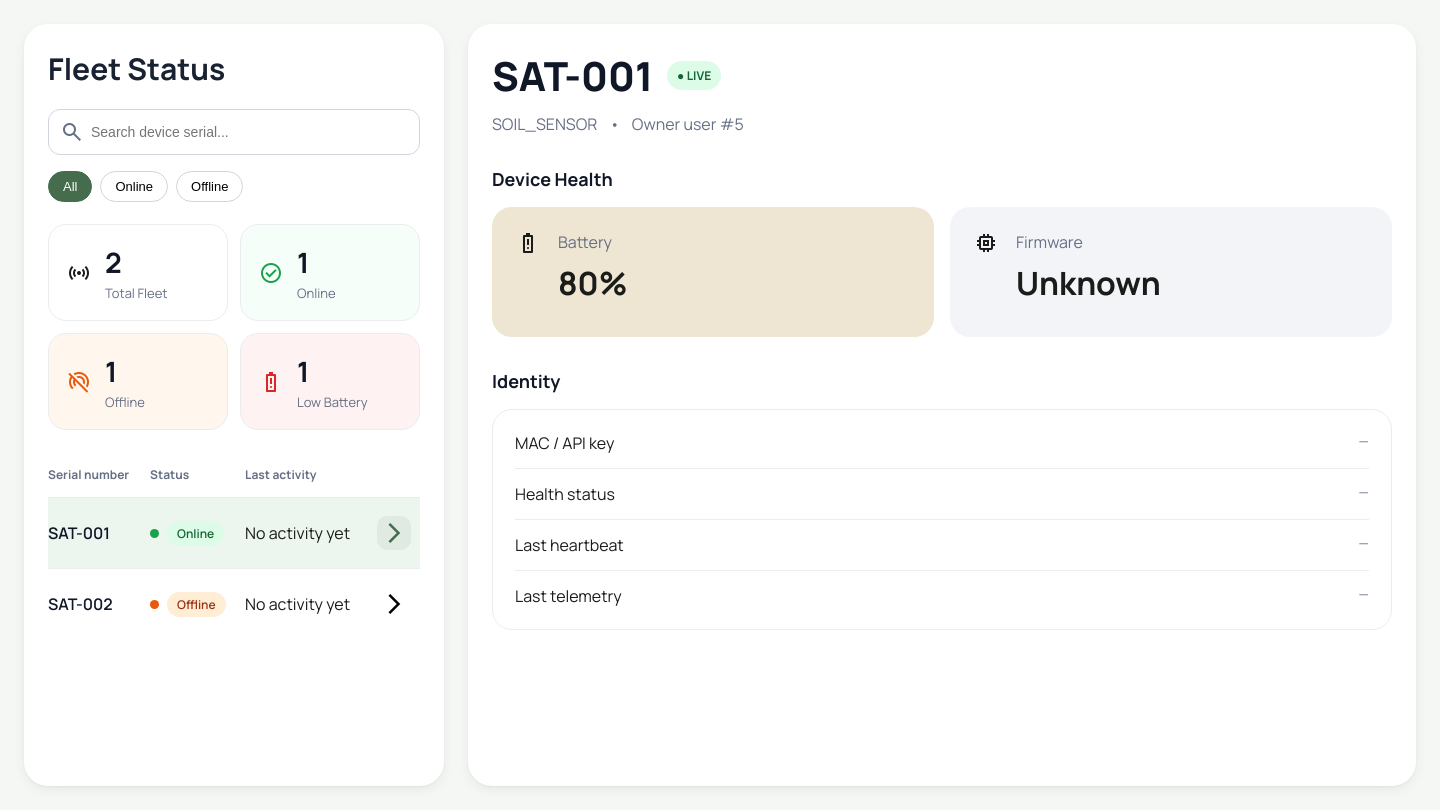
DeviceFleetView › filtering by Online status hides offline devices
Click the button with class "filter-chip" showing "Online" at x=134, y=186, box [100,171,168,202]
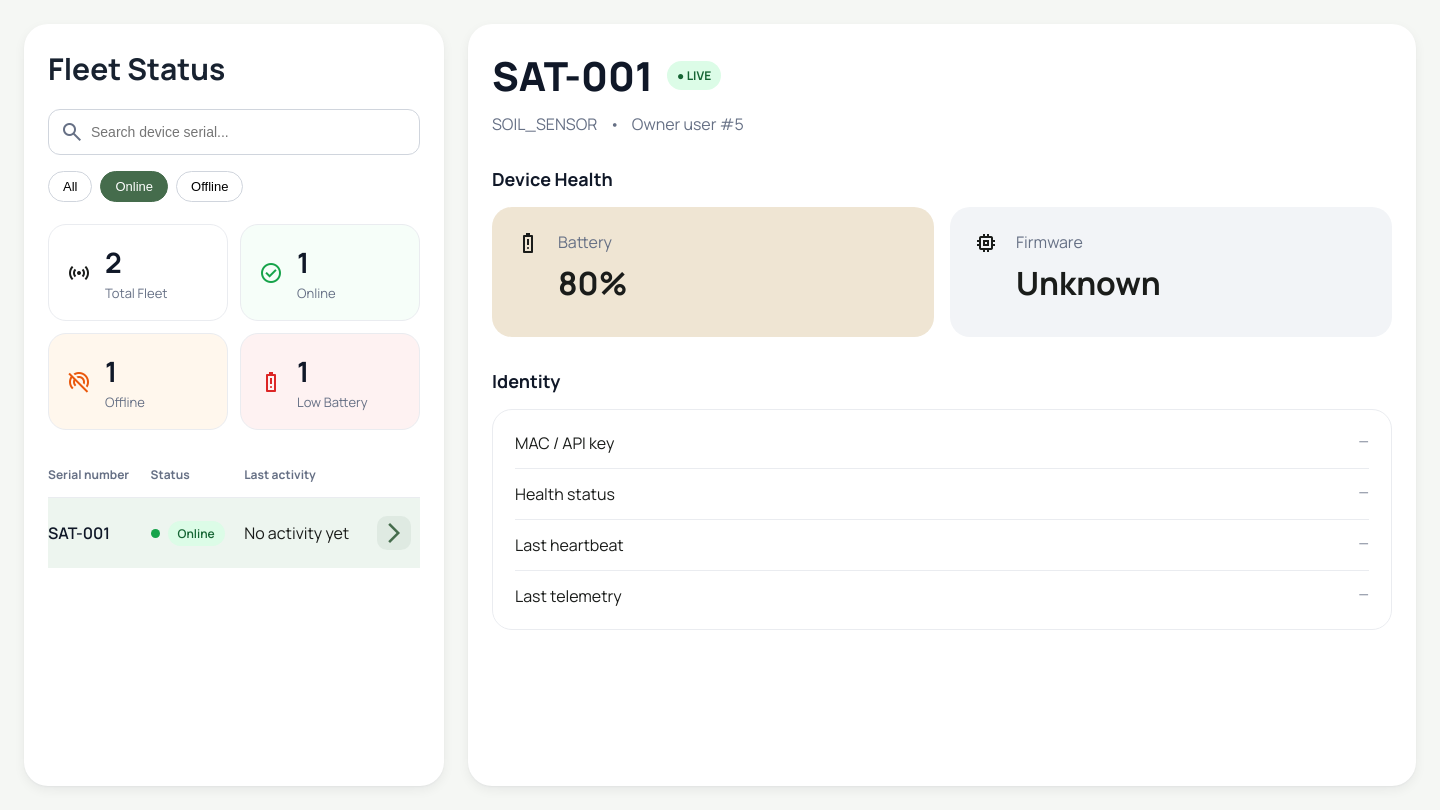
Expected: the text "SAT-001" is shown, [48,498,151,568]
Expected: the text "SAT-002" is gone
